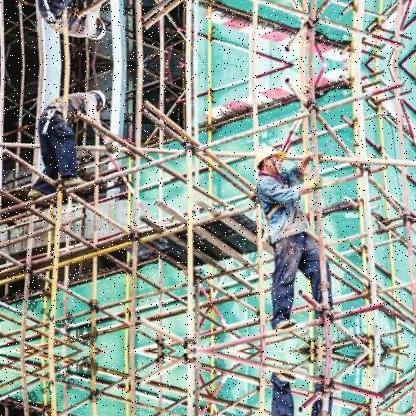helmet: (255, 143, 284, 178), (88, 87, 108, 111), (88, 17, 108, 41)
